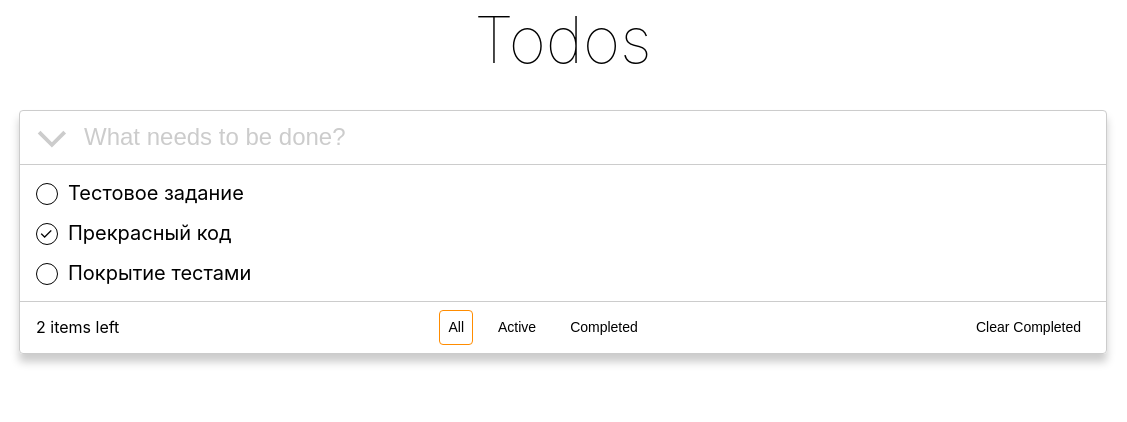
TodoList Component › TodoList Component
Type "New Task" into the field with placeholder "What needs to be done?".
click(239, 137); type("New Task")  # box [84, 123, 394, 152]
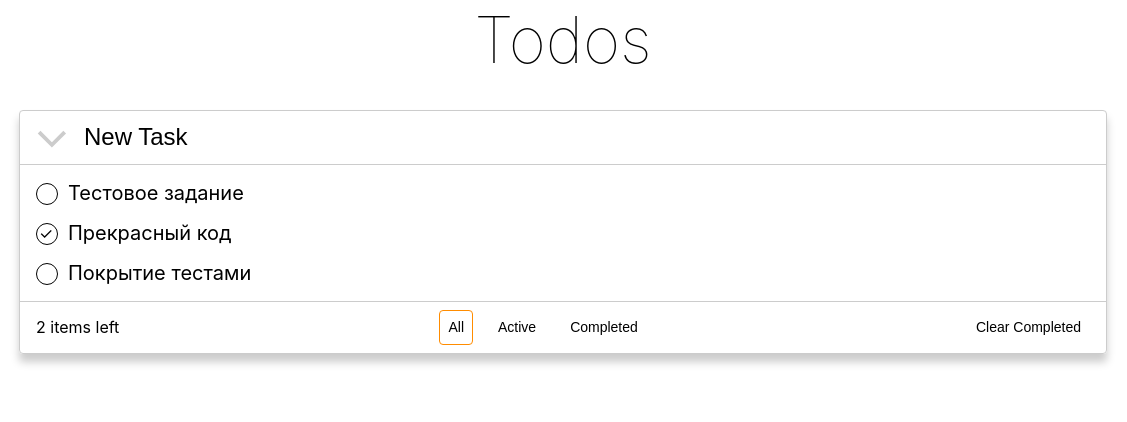
Press Enter in the field with placeholder "What needs to be done?", box [84, 123, 394, 152]
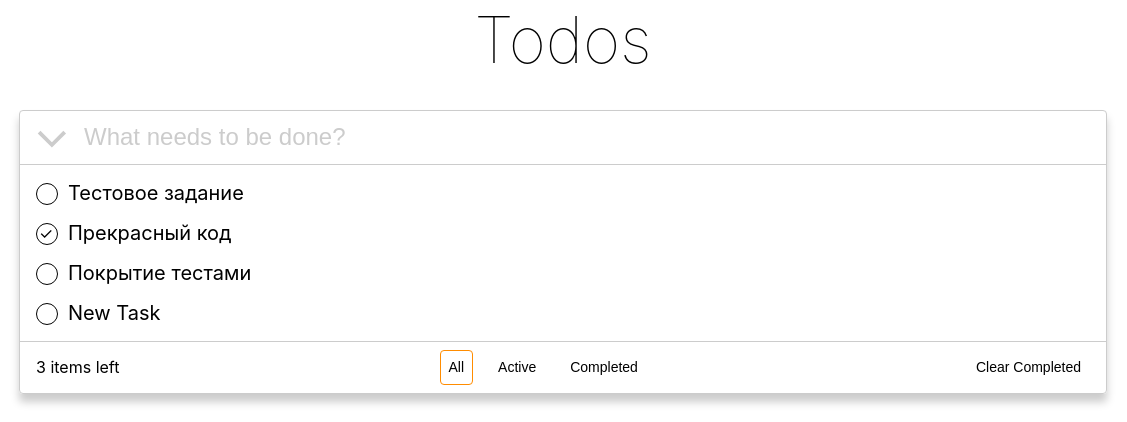
Expected: the list item "New Task" is shown, [68, 301, 161, 325]
Expected: the field with placeholder "What needs to be done?" is empty, [84, 123, 394, 152]
